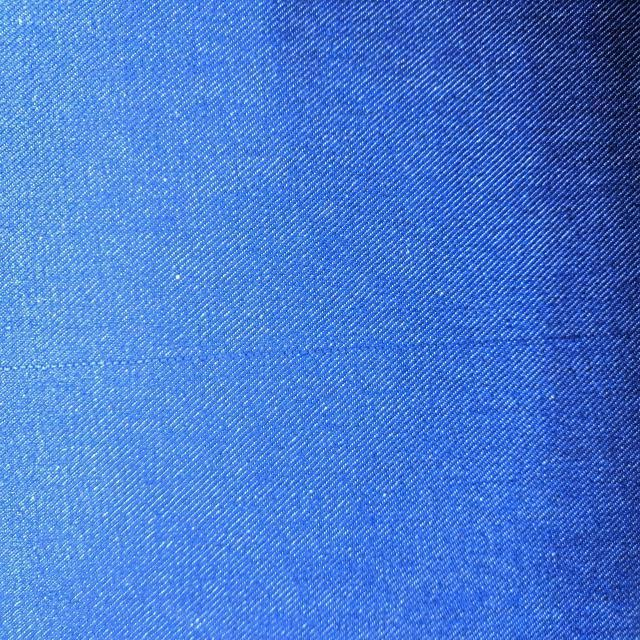Line: (7, 328, 640, 380)
